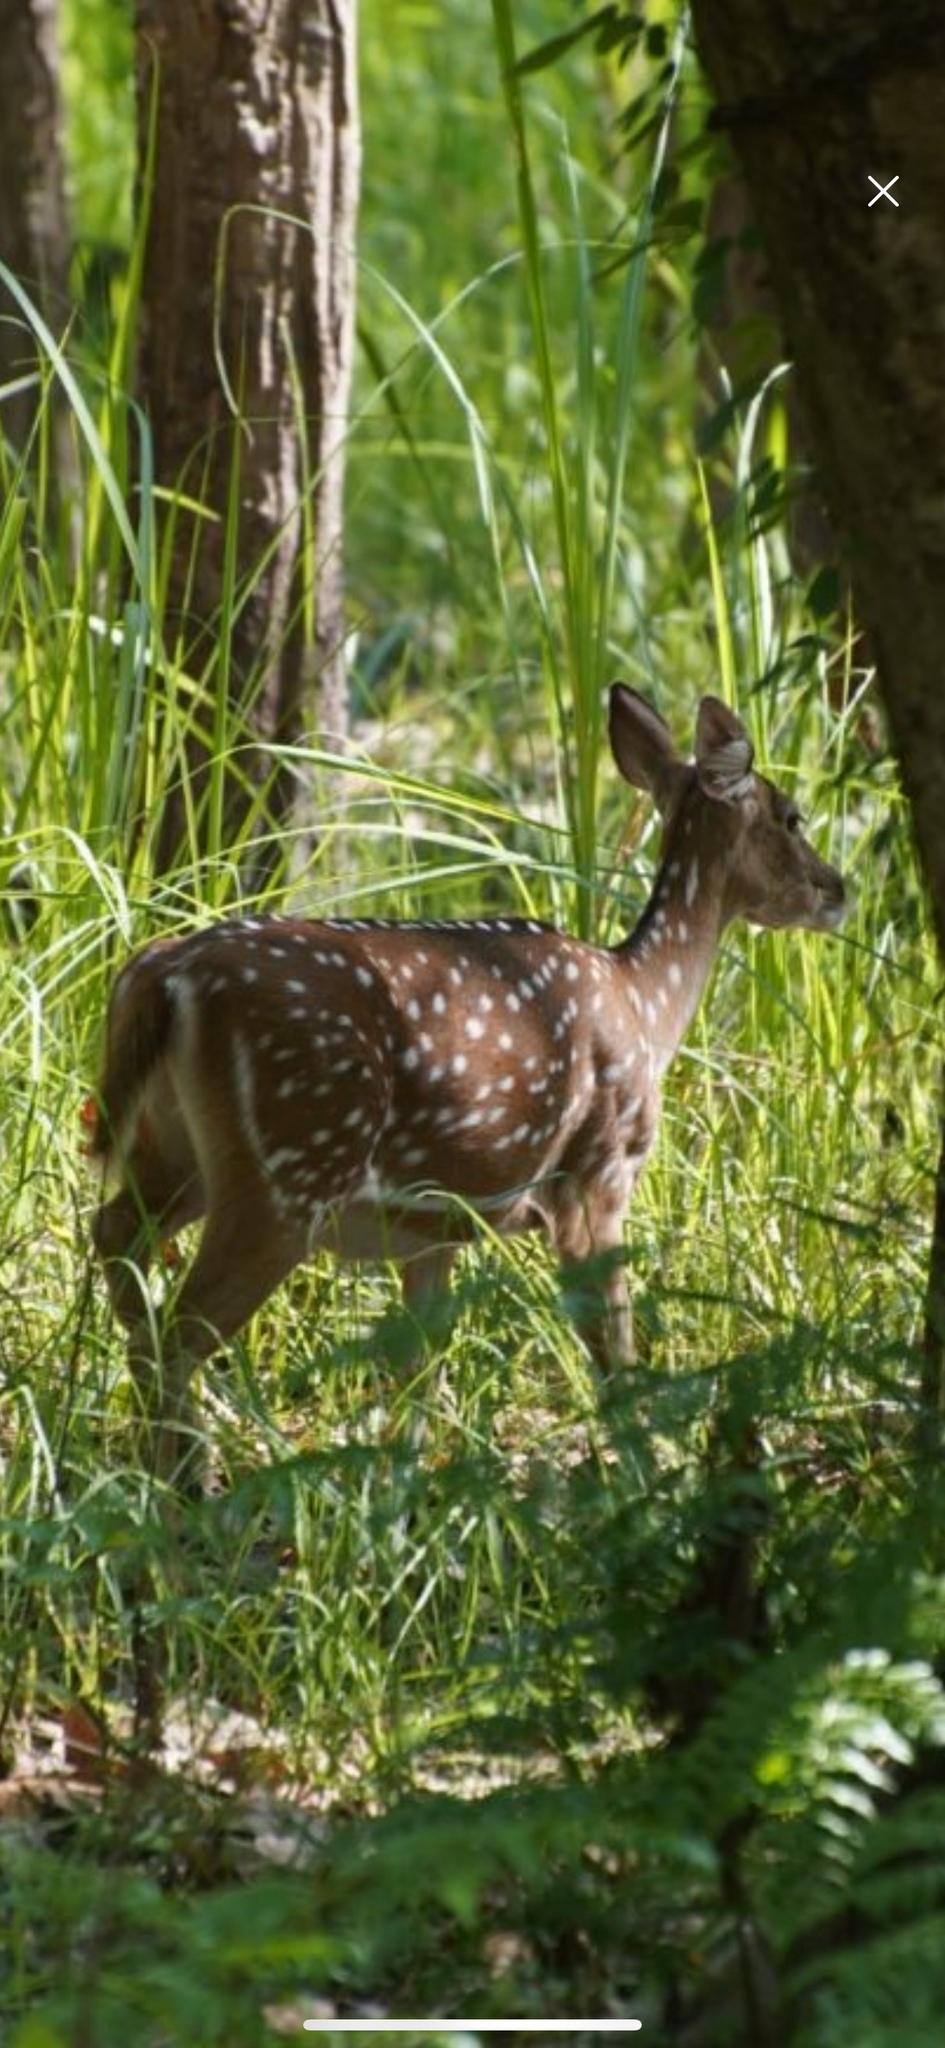Deer: (85, 683, 846, 1390)
